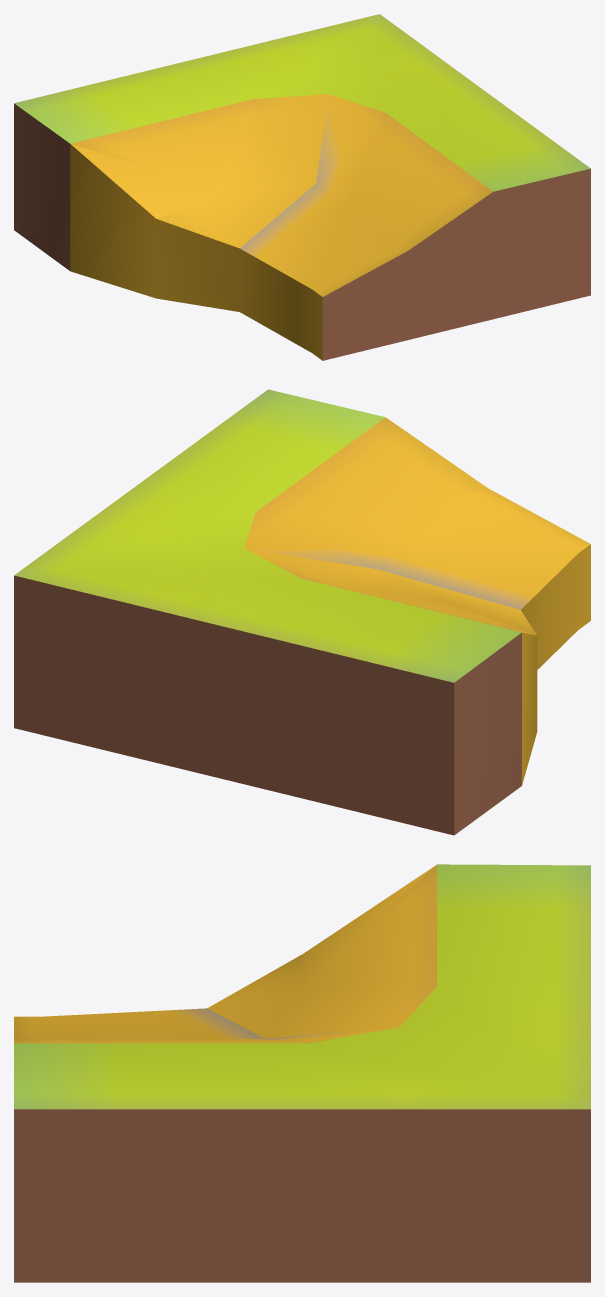
File: Shore.SliceConcave.A.Vert.glb
The picture shows the model from 3 angles, top to bottom: view 1: azimuth 30°, elevation 25°; view 2: azimuth 150°, elevation 25°; view 3: azimuth 270°, elevation 25°; orthographic projection. The views are drawn at different scales.
Parts seen in each view (by area): view 1: Shore.SliceConcave.A.Vert; view 2: Shore.SliceConcave.A.Vert; view 3: Shore.SliceConcave.A.Vert.
Part boxes in pixels (<box>): Shore.SliceConcave.A.Vert: <box>14,14,590,360</box>; Shore.SliceConcave.A.Vert: <box>14,389,590,835</box>; Shore.SliceConcave.A.Vert: <box>14,864,590,1282</box>.
Size of the model in its own units: 3 by 1 by 3.
1 material, 1 textured.
